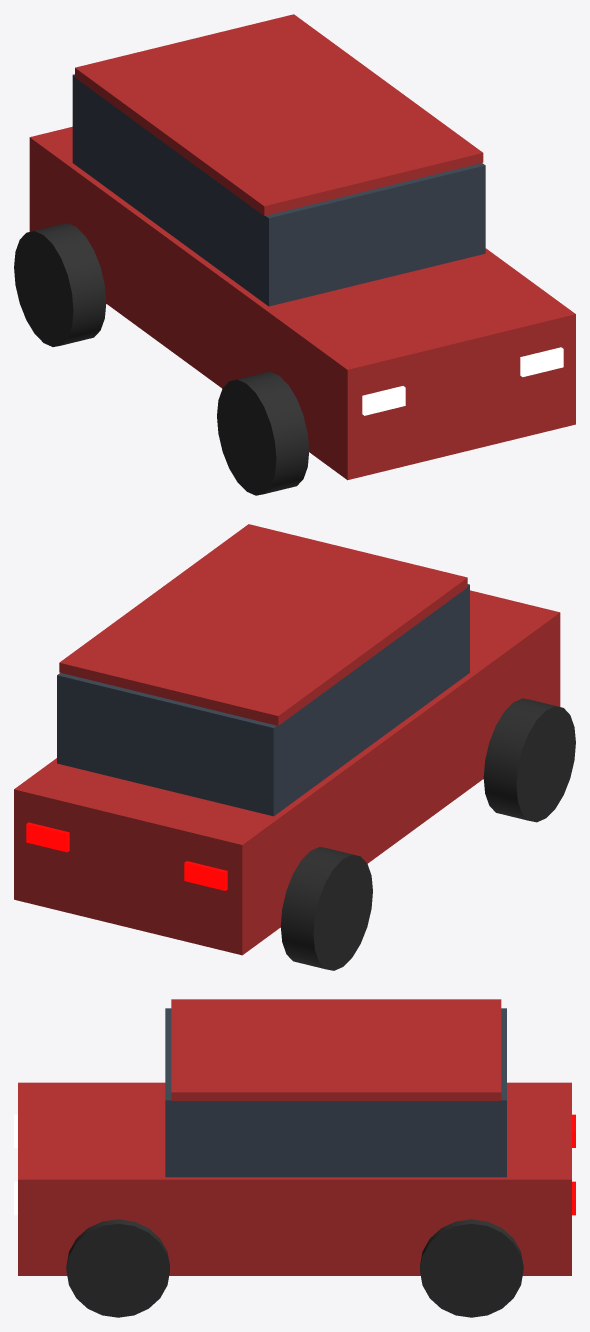
File: suv.glb
The picture shows the model from 3 angles, top to bottom: view 1: azimuth 30°, elevation 25°; view 2: azimuth 150°, elevation 25°; view 3: azimuth 270°, elevation 25°; orthographic projection. The views are drawn at different scales.
Visible parts, largest first — view 1: SUV; view 2: SUV; view 3: SUV.
Boxes of the visible parts, x1,y1,x2,y2 form: SUV: [14, 14, 575, 495]; SUV: [14, 524, 575, 970]; SUV: [14, 999, 575, 1317].
Bounding box in the file's own units: 2.41 × 2.05 × 4.77.
